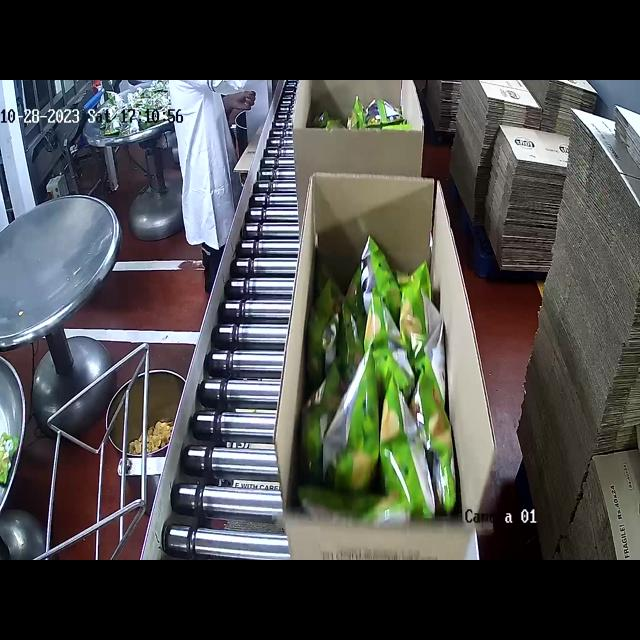yogurt: (316, 248, 443, 495), (315, 104, 421, 129)
